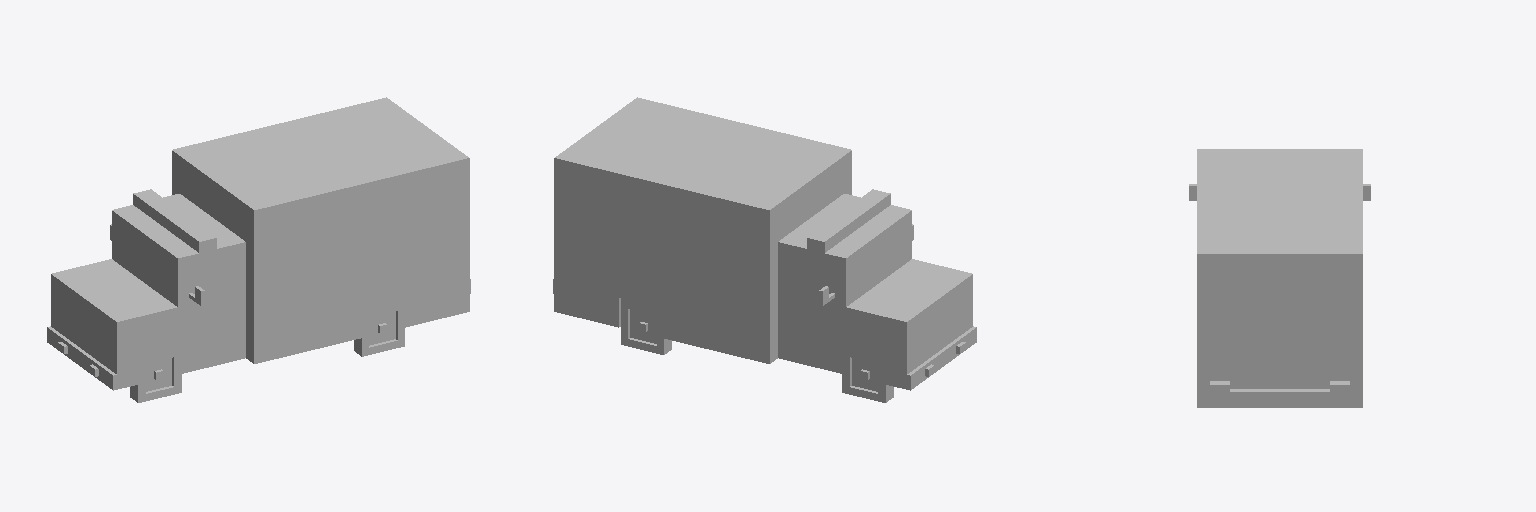
Rendered from alll cars3-133.obj.
3 views of the same model, side by side, from view 1: azimuth 30°, elevation 25°; view 2: azimuth 150°, elevation 25°; view 3: azimuth 270°, elevation 25° (orthographic).
Parts seen in each view (by area): view 1: object 1; view 2: object 1; view 3: object 1.
Boxes of the visible parts, x1=… form: object 1: x1=47, y1=97, x2=470, y2=402; object 1: x1=553, y1=97, x2=976, y2=402; object 1: x1=1189, y1=149, x2=1370, y2=407.
Size of the model in its own units: 10 by 4.6 by 4.4.